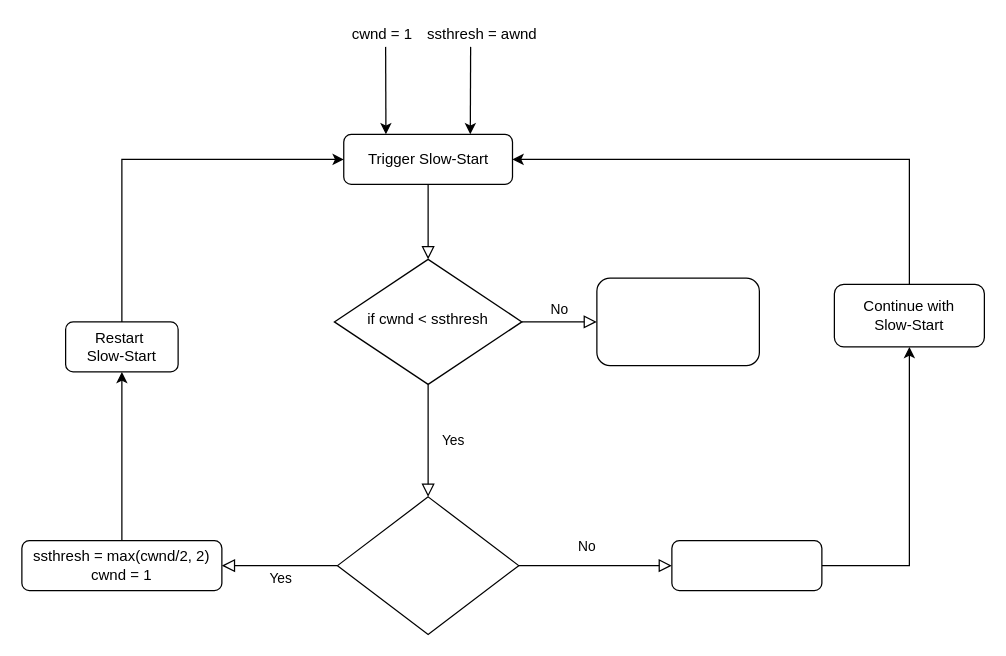
Some shapes in this 1006 by 656 pixel diagram are drawn without their labels. The box of each missing label's shape, as (x1, y1, x2, y2) in pixels:
cwnd = cwnd * 2 ssthresh no change: (671, 539, 822, 591)
is segment loss occur (due to RTO): (336, 496, 519, 634)
Switch to Congestion Avoidance phase: (596, 277, 759, 366)
